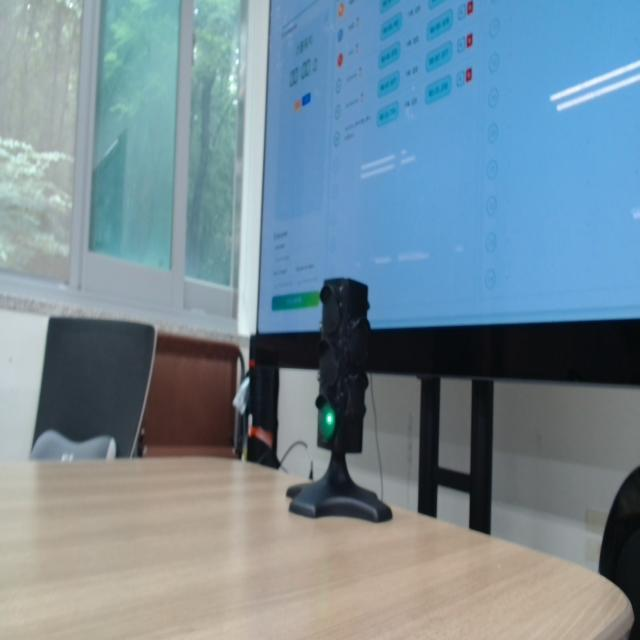green_light: (319, 404, 336, 442), (326, 414, 334, 425)
